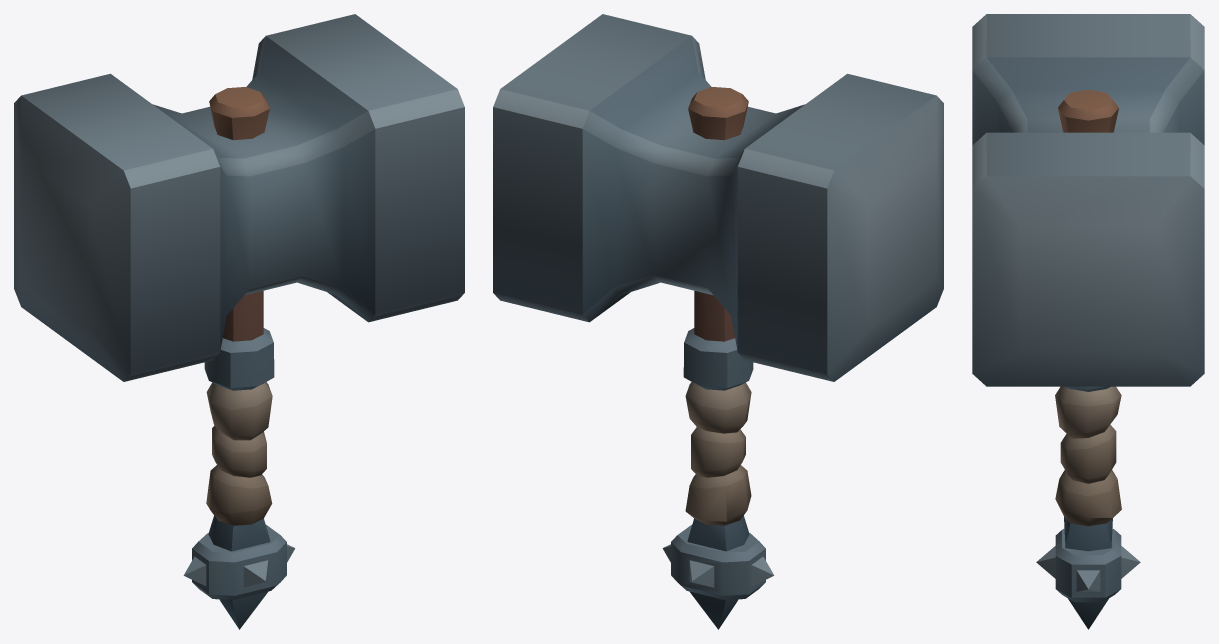
The model's file is XW_hammer_A.glb.
The picture shows the model from 3 angles, left to right: view 1: azimuth 30°, elevation 25°; view 2: azimuth 150°, elevation 25°; view 3: azimuth 270°, elevation 25°; orthographic projection.
Visible parts, largest first — view 1: hammer_A; view 2: hammer_A; view 3: hammer_A.
Boxes of the visible parts, x1,y1,x2,y2 form: hammer_A: (14,14,464,629); hammer_A: (493,14,943,629); hammer_A: (972,14,1204,629).
Bounding box in the file's own units: 0.8135 × 1.14 × 0.448.
